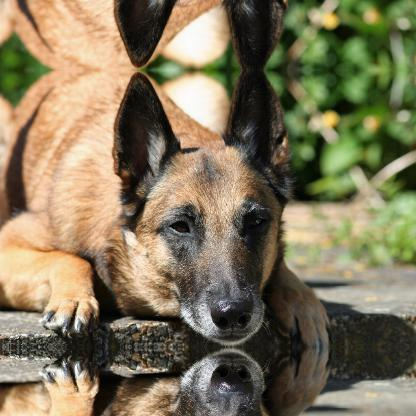Dog: (0, 68, 333, 346), (0, 0, 333, 70), (0, 346, 333, 415)
